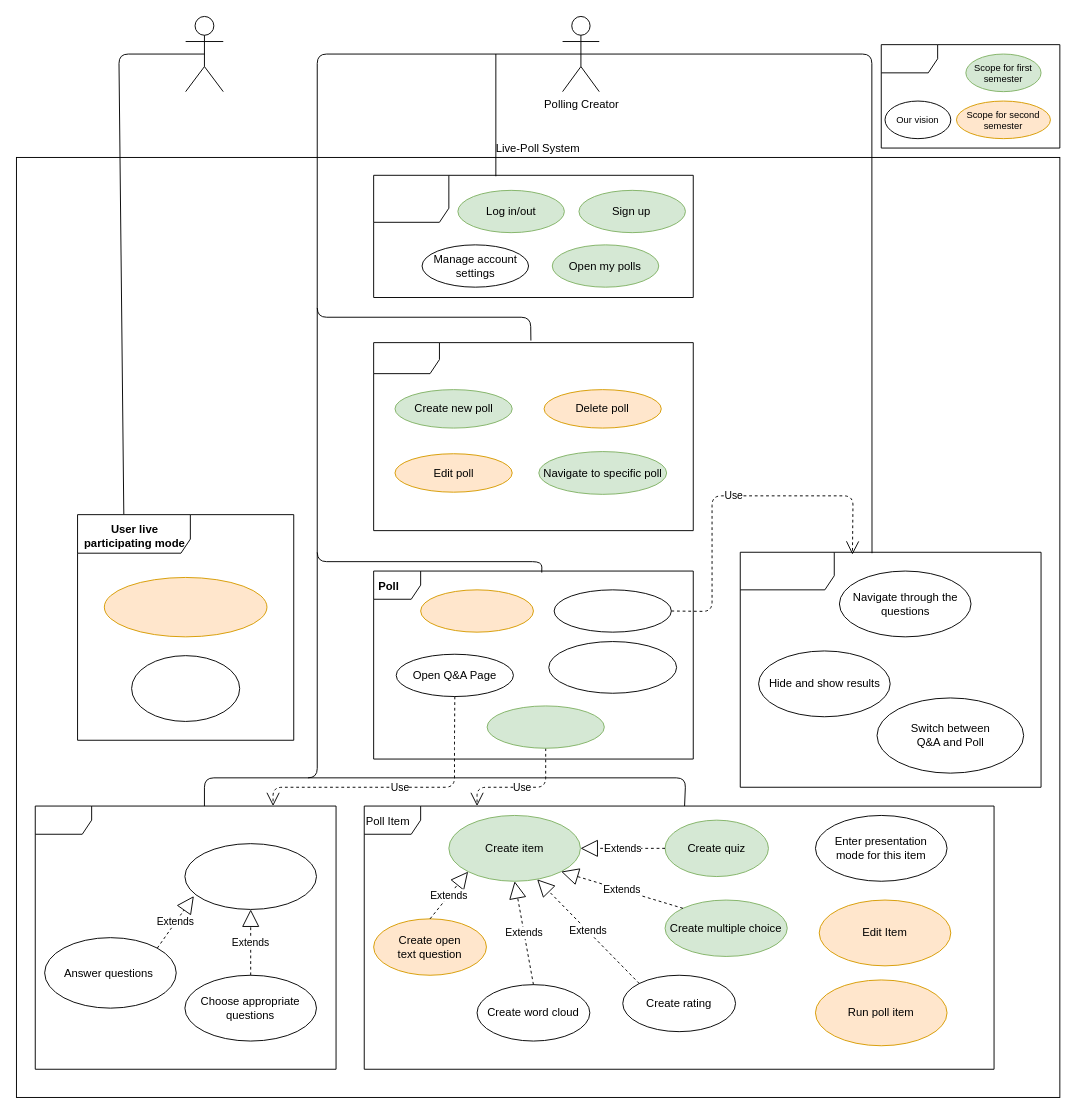
Image size: 1076x1114. Some labels were removed from this diagram. Here are the shapes that lost their labels. From the top down, the box of each, then its label:
(185, 16, 223, 92): Polling Participant
(880, 44, 1060, 148): Legend
(373, 174, 693, 298): Admin-Dashboard
(373, 342, 693, 531): My Polls
(103, 577, 267, 637): Answer the current item the presenter has selected
(420, 589, 533, 632): Edit custom URL
(553, 589, 671, 632): Start presentation
(548, 641, 677, 693): Integrate poll into PowerPoint
(739, 551, 1041, 787): Presentation mode
(131, 655, 240, 721): Post a question in Q&A
(486, 705, 604, 748): Open Poll Items
(184, 843, 316, 909): Moderate Q&A
(34, 805, 336, 1069): Q&A
